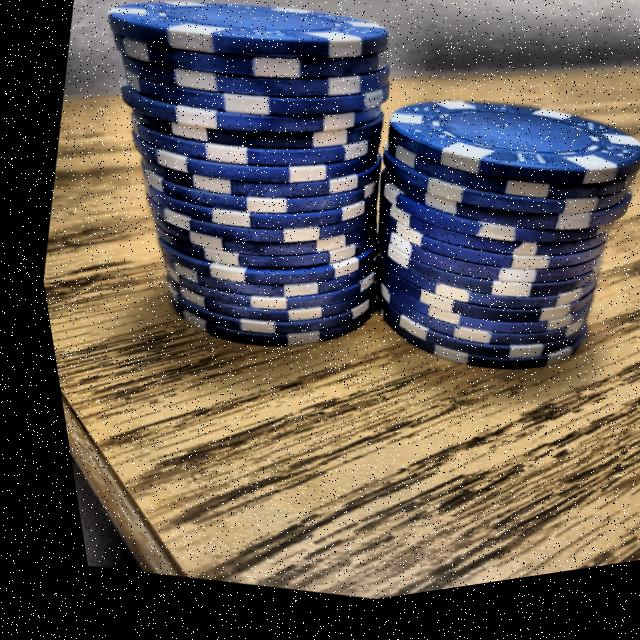Chip: (22, 0, 478, 405), (278, 40, 640, 450)
